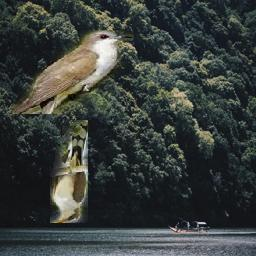Cuckoo: (12, 30, 135, 114), (50, 121, 88, 224)
